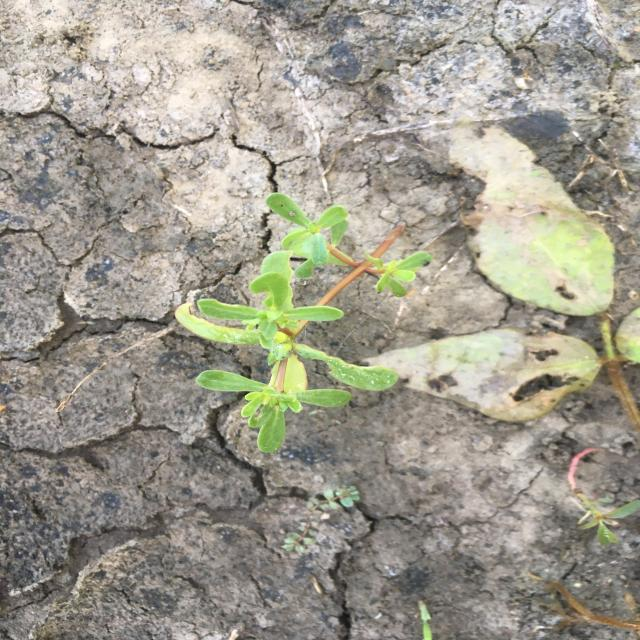Purslane: (172, 190, 434, 455)
SpottedSpurge: (279, 486, 362, 558)
Waterhemp: (564, 448, 638, 550)
